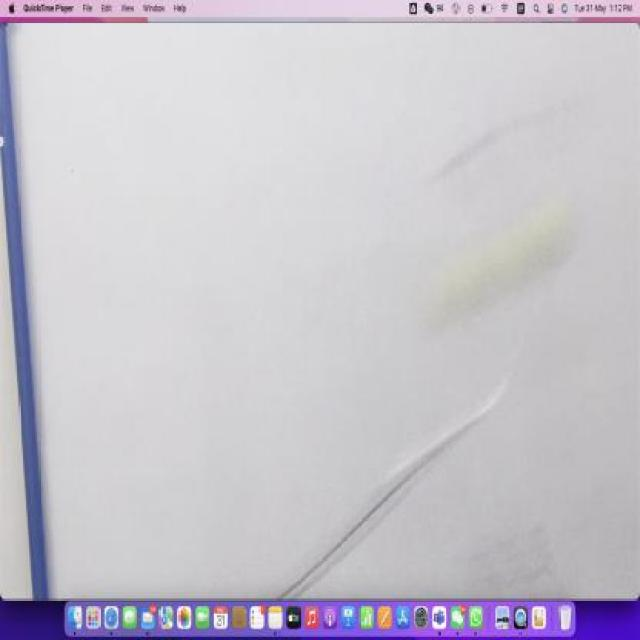baseball: (436, 194, 578, 332)
